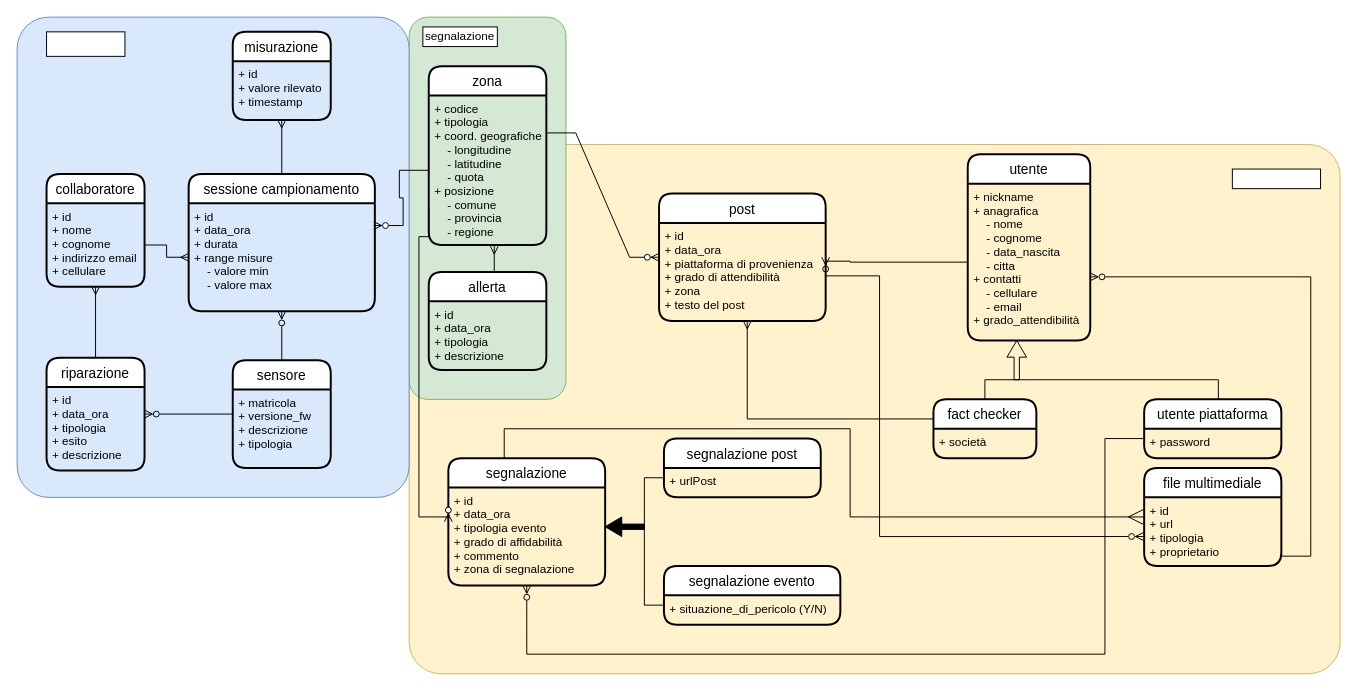
Some shapes in this 1357 by 691 pixel diagram are drawn without their labels. The shapes that lost their labels are listed below. From the top down, each one's centre as x and y in pixels, then its label:
At point 85,43: "monitoraggio".
At point 1276,178: "social network".
